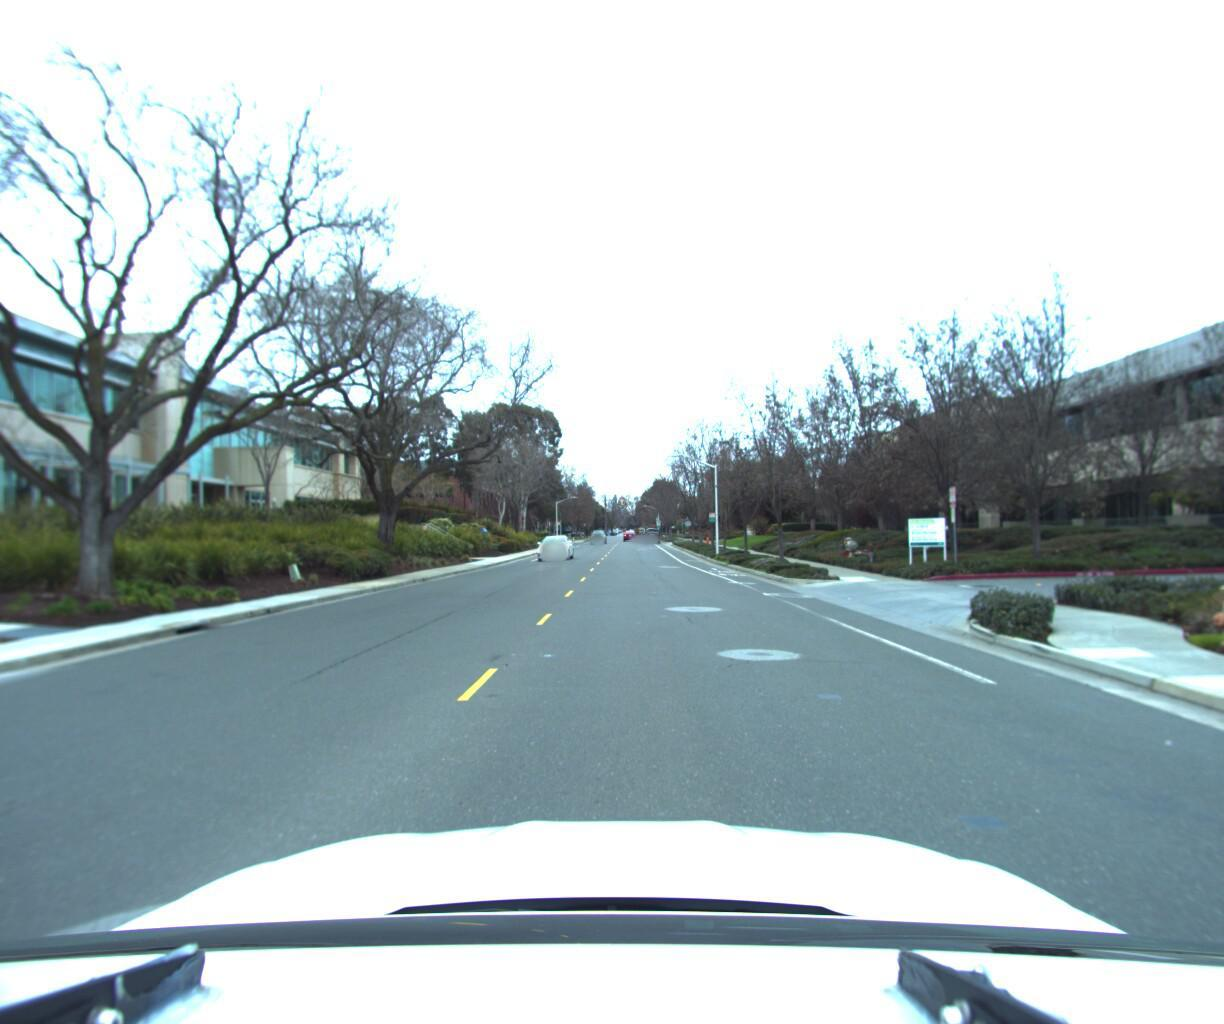car: (532, 532, 574, 561)
